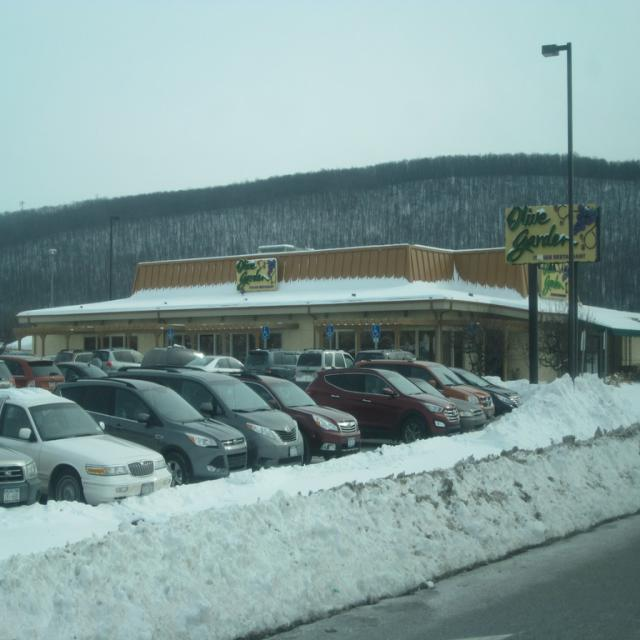car: (56, 377, 247, 483), (130, 369, 302, 466), (0, 449, 36, 506)
